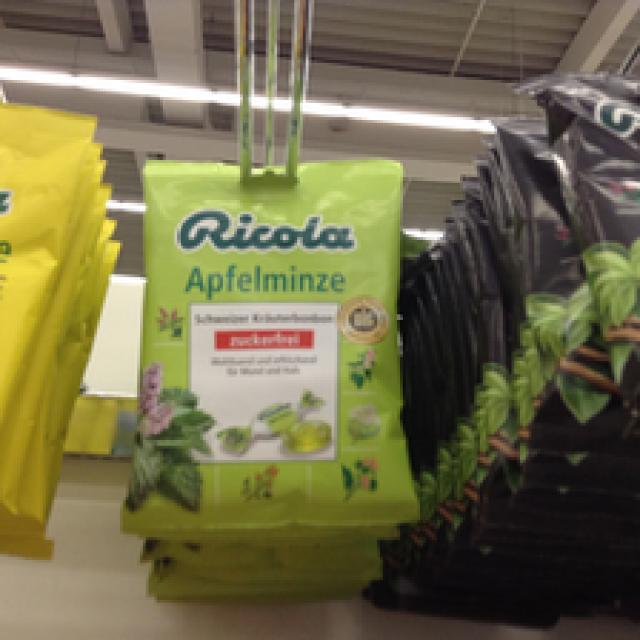groceries: (143, 169, 406, 520), (500, 86, 637, 448)
